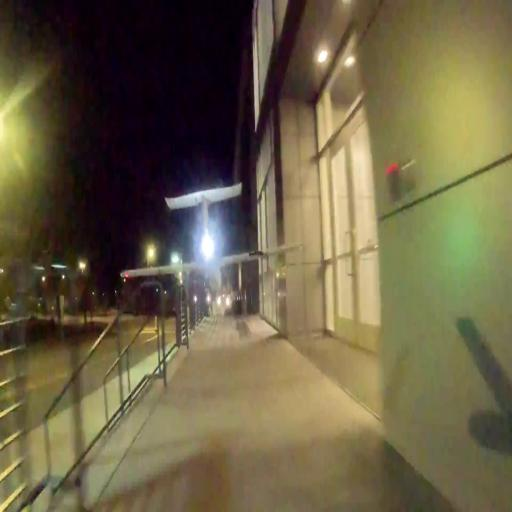uav: (116, 172, 300, 302)
